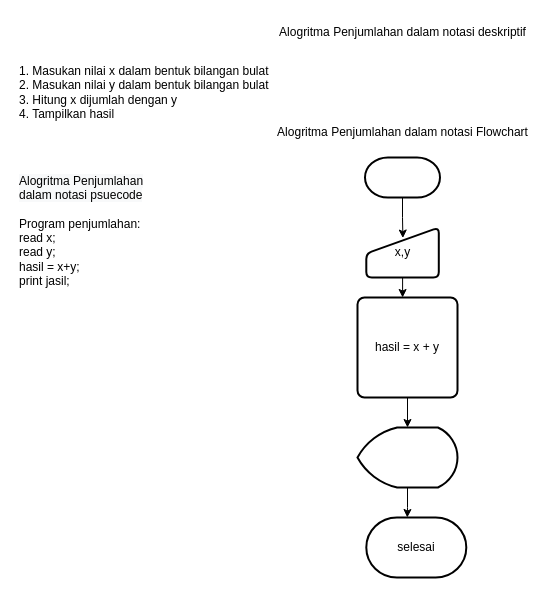
The diagram is 554 pixels wide and 595 high, and some of its shapes have lost their labels. The shapes that lost their labels are listed below. From the top down, each one's centre as x and y in pixels, then its label:
(402,177): Mulai
(407,457): hasil
